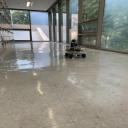cart: (64, 46, 87, 58)
